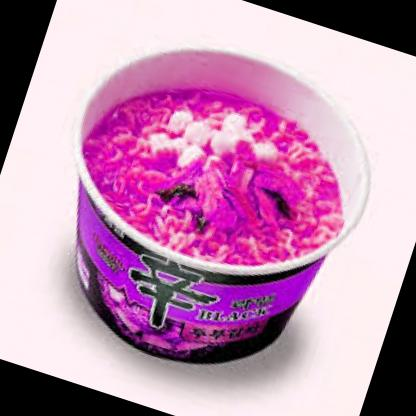Ramen: (26, 13, 405, 411)
